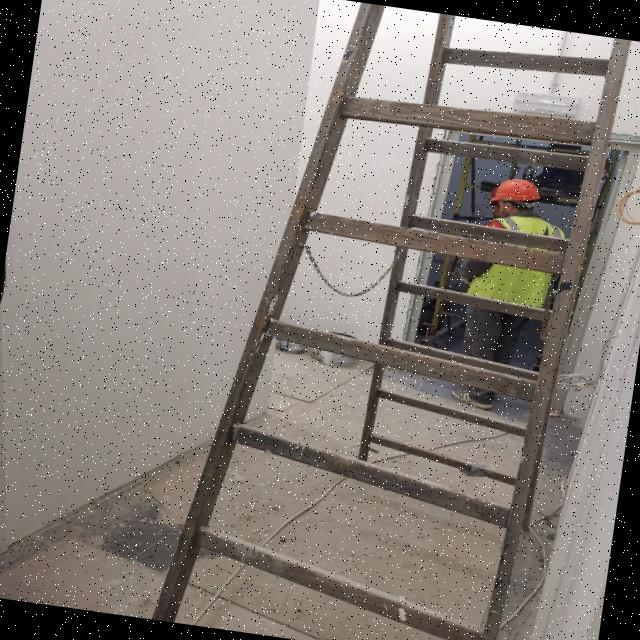Helmet: (488, 175, 544, 226)
